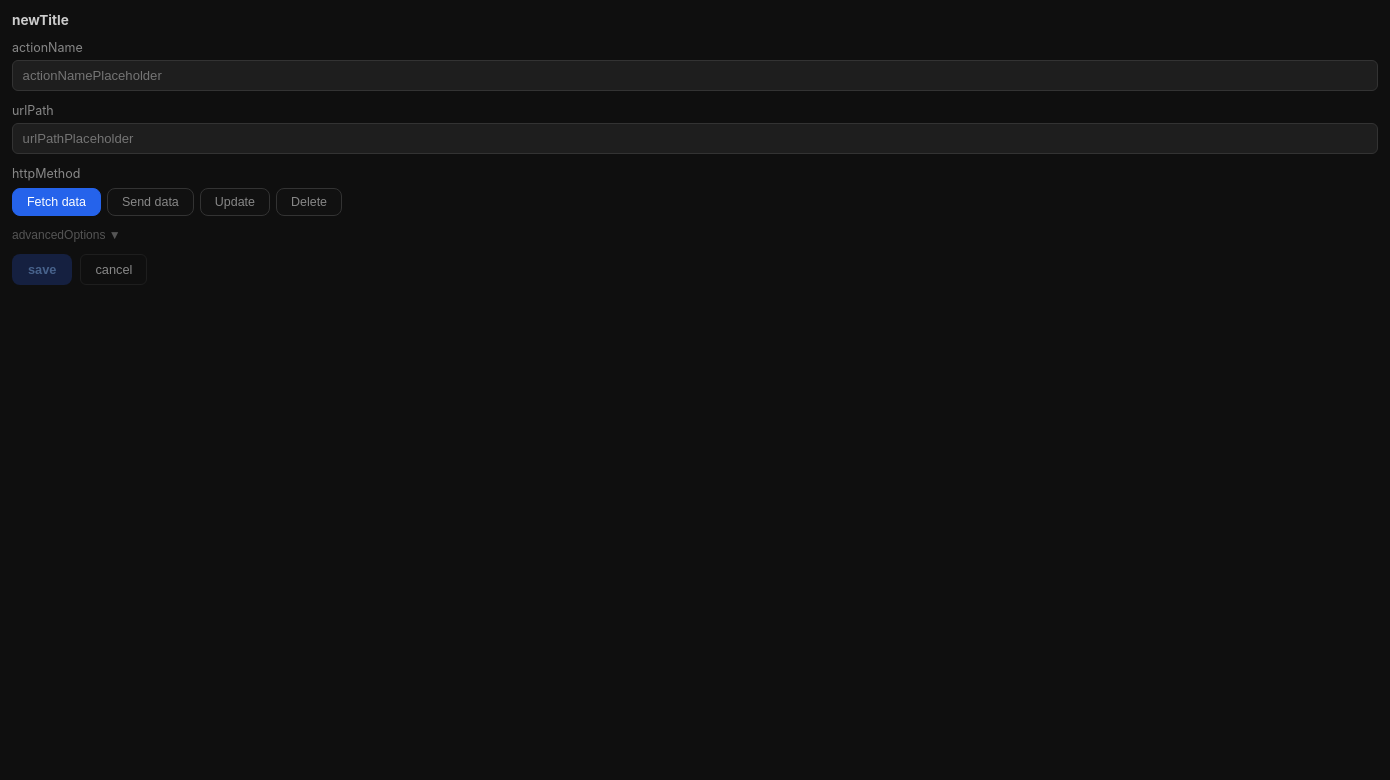
Test: ActionForm › "Advanced options" toggle hides fields again when clicked twice
This screenshot has width=1390, height=780.
Click the button "advancedOptions ▼" at (59, 235), box [12,228,1378,242]
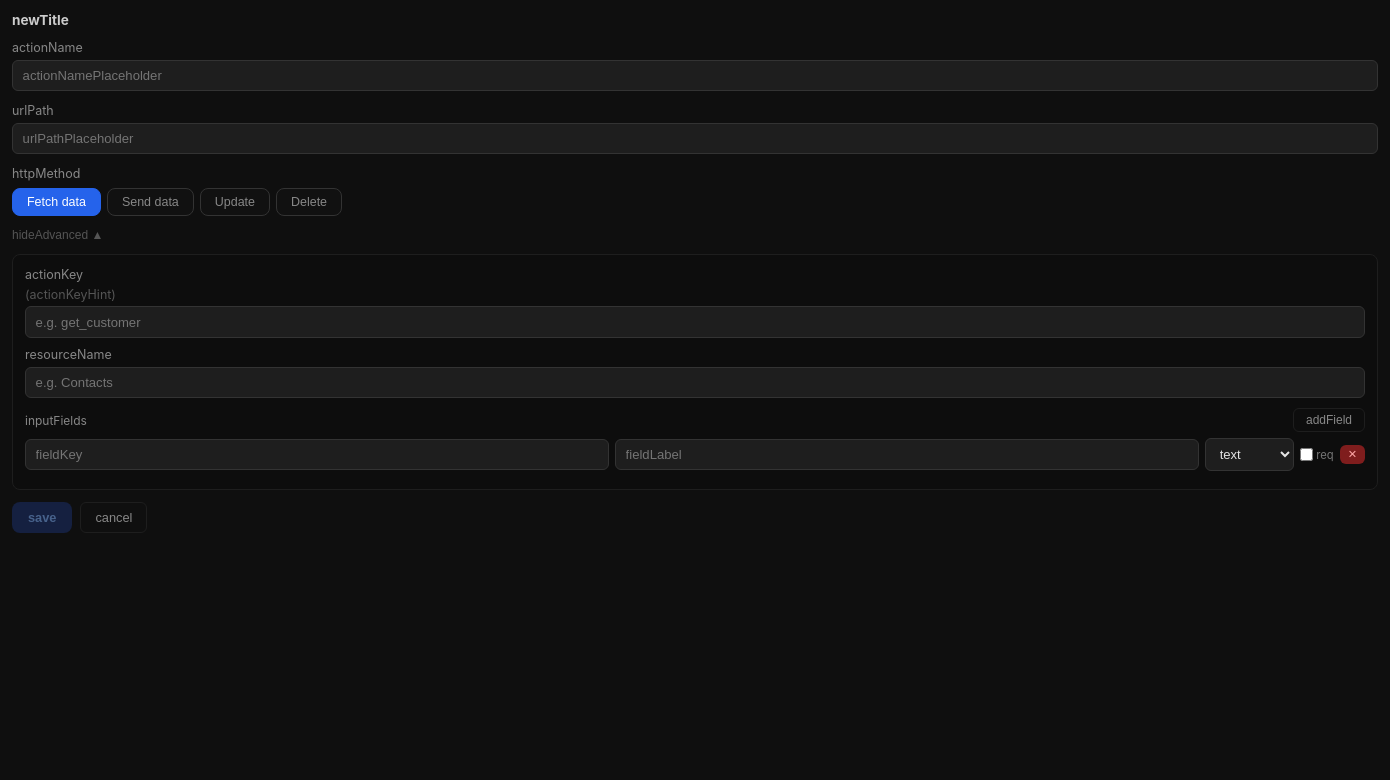
Expected: the field with test id "advanced-action-key" is shown, [25,306,1365,338]
Click the button "hideAdvanced ▲" at (50, 235), box [12,228,1378,242]
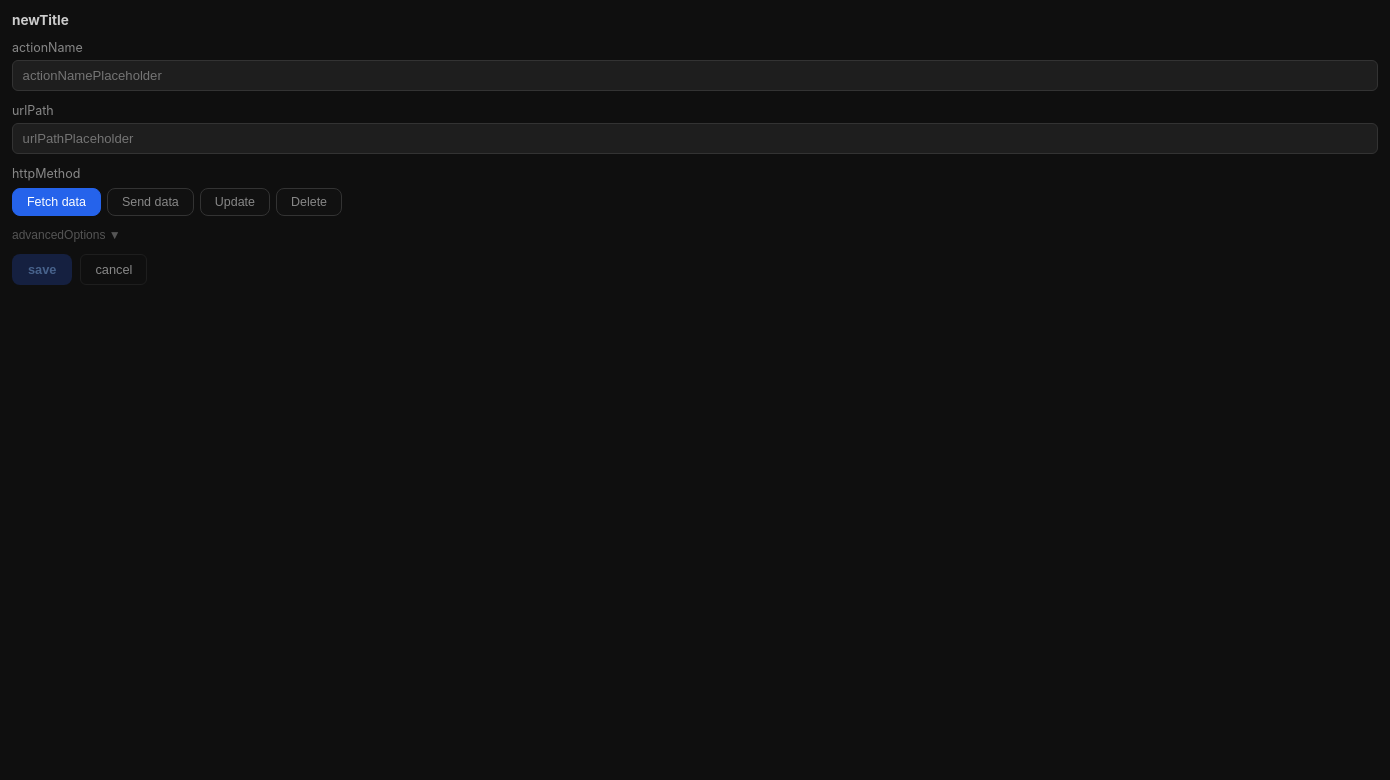
Expected: the field with test id "advanced-action-key" is gone
